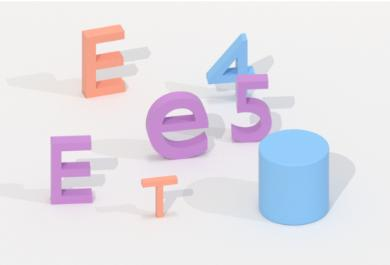0-KhoiTru: (256, 127, 333, 228)
4: (206, 29, 257, 99)
5: (230, 70, 275, 147)
E: (79, 20, 129, 103), (45, 130, 97, 208)
T: (135, 171, 182, 219)
e: (143, 88, 213, 163)
